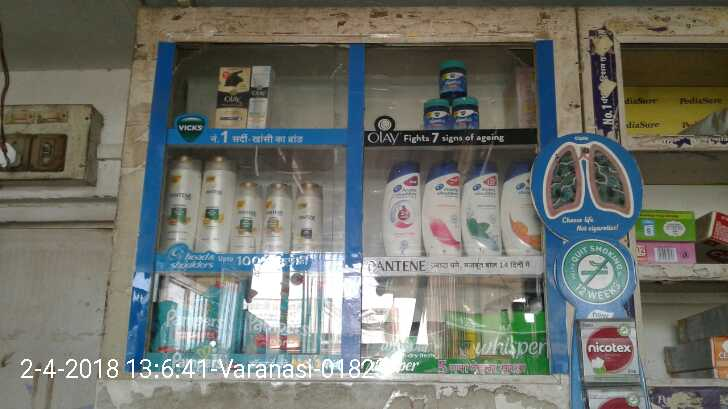vicks: (423, 58, 480, 133)
